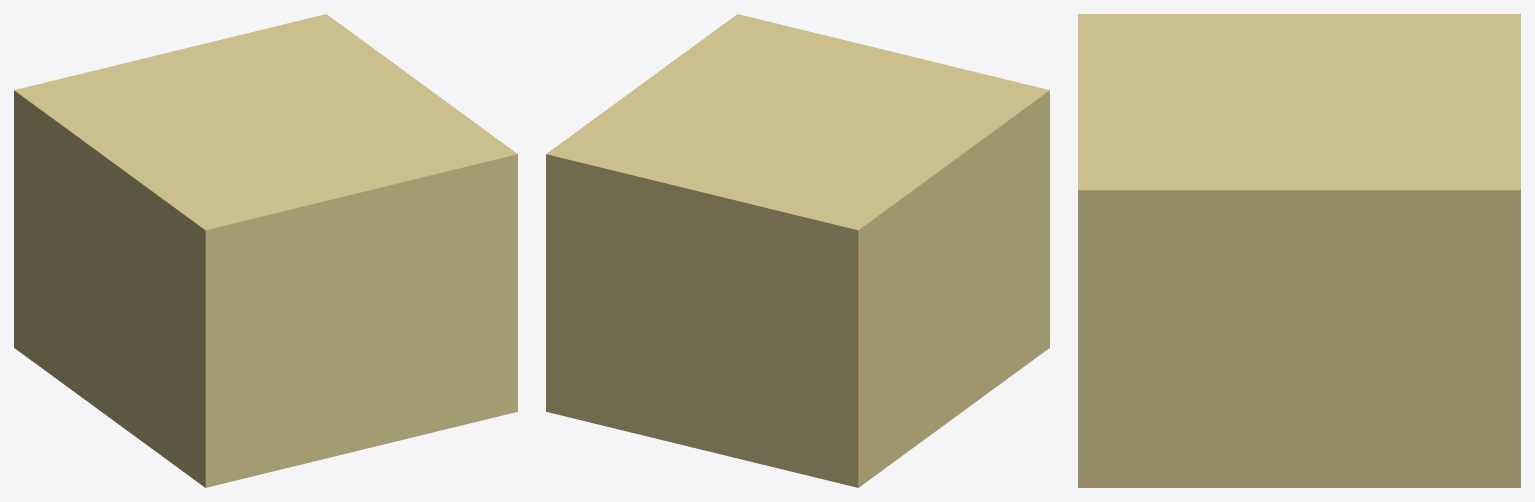
The model's file is waterfallrock_small_indoors.DAE.
The picture shows the model from 3 angles, left to right: view 1: azimuth 30°, elevation 25°; view 2: azimuth 150°, elevation 25°; view 3: azimuth 270°, elevation 25°; orthographic projection. The views are drawn at different scales.
Parts seen in each view (by area): view 1: bounds; view 2: bounds; view 3: bounds.
Part boxes in pixels (x1,y1,x2,y2): bounds: [14, 14, 517, 487]; bounds: [546, 14, 1049, 487]; bounds: [1078, 14, 1520, 487].
Bounding box in the file's own units: 29.32 × 31.13 × 23.1.
